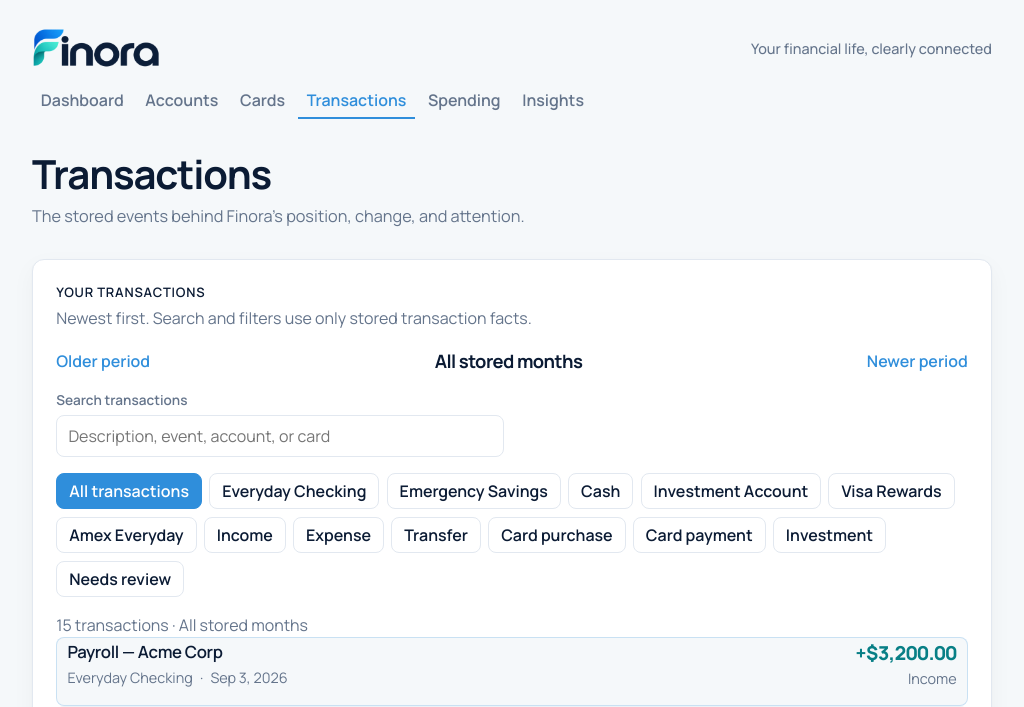
Test: Finora transactions list › filters by card using the explicit card relationship
Click the button with aria-label "Show only Visa Rewards" at (892, 491), box [828,473,955,509]
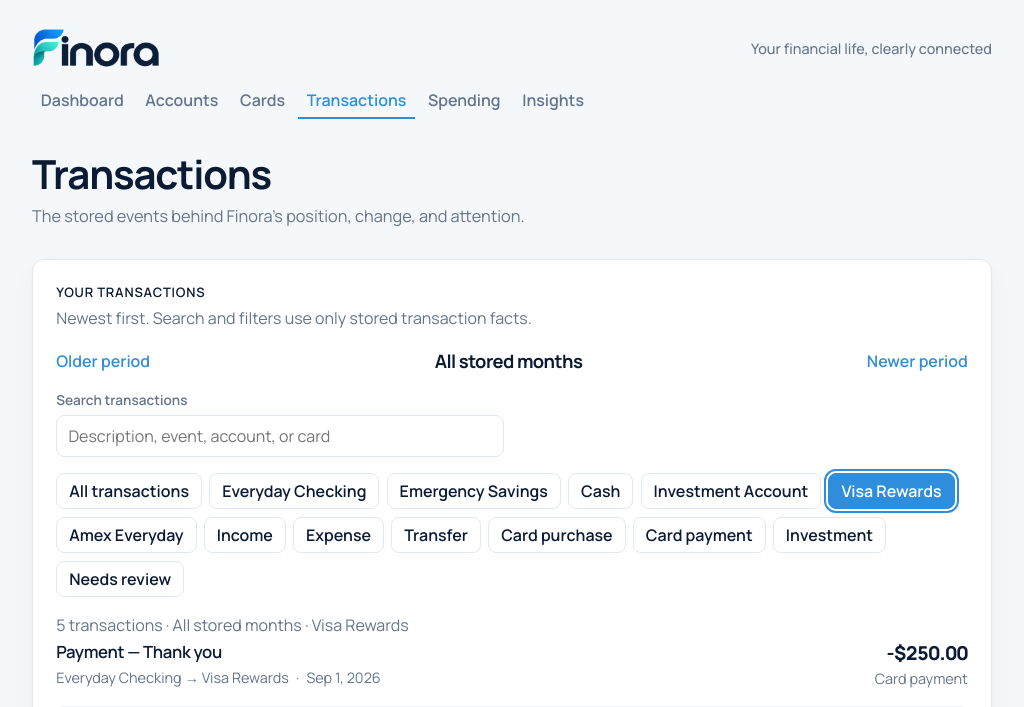
Expected: the text "Payment — Thank you" is shown, [56,640,222,663]
Result: the button "Payroll — Acme Corp" is gone
